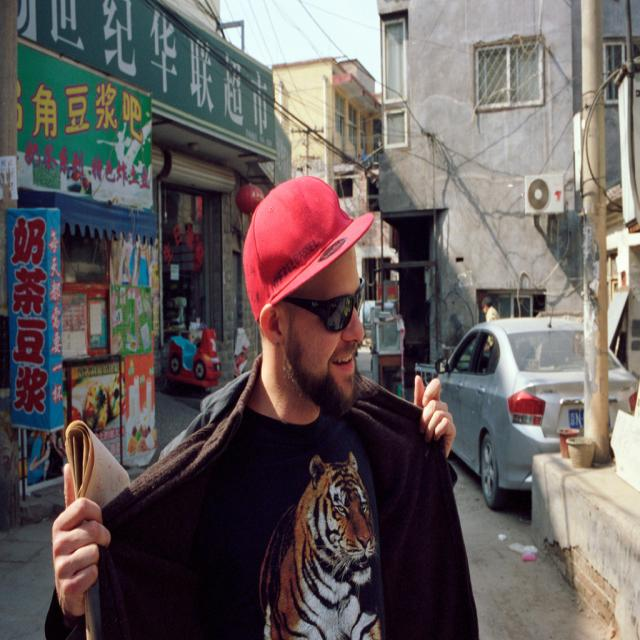car: (416, 327, 569, 509)
